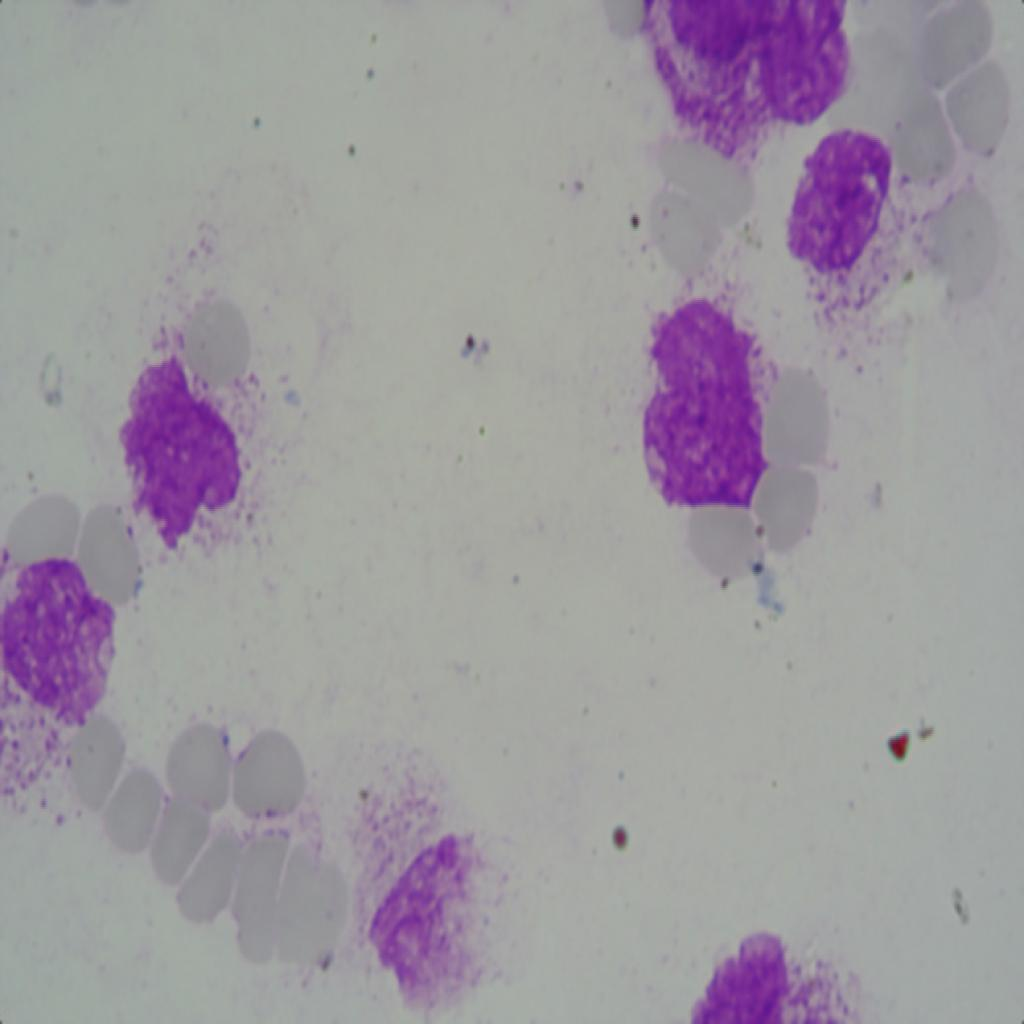Myeoblast: (625, 306, 758, 535), (770, 132, 901, 338), (124, 353, 246, 547), (4, 550, 118, 748), (734, 0, 862, 130)
